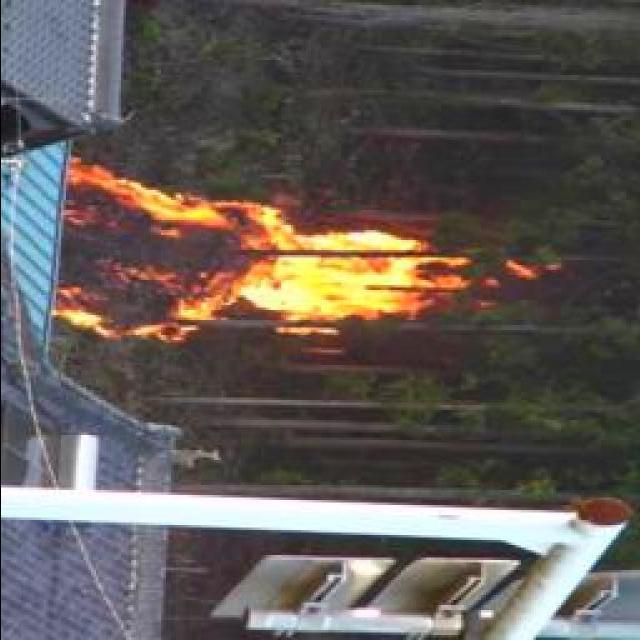Fire: (54, 180, 470, 341)
